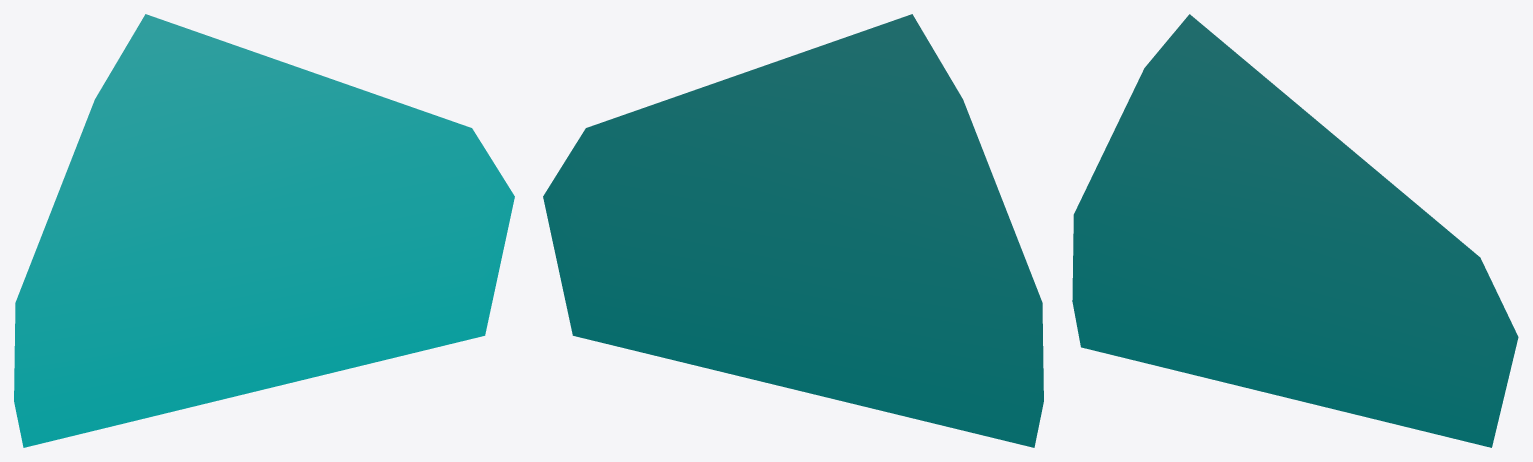
Rendered from Wild_Grass_vdilbaiia_Mid_vdilbaiia_VarC_LOD3.fbx.
The picture shows the model from 3 angles, left to right: view 1: azimuth 30°, elevation 25°; view 2: azimuth 150°, elevation 25°; view 3: azimuth 330°, elevation 25°; orthographic projection. The views are drawn at different scales.
Visible parts, largest first — view 1: _eur6_VarC_LOD4; view 2: _eur6_VarC_LOD4; view 3: _eur6_VarC_LOD4.
Part boxes in pixels (left/top/right/bottom): _eur6_VarC_LOD4: left=14, top=14, right=514, bottom=447; _eur6_VarC_LOD4: left=543, top=14, right=1043, bottom=447; _eur6_VarC_LOD4: left=1072, top=14, right=1518, bottom=447.
Size of the model in its own units: 87.55 by 67.56 by 0.
